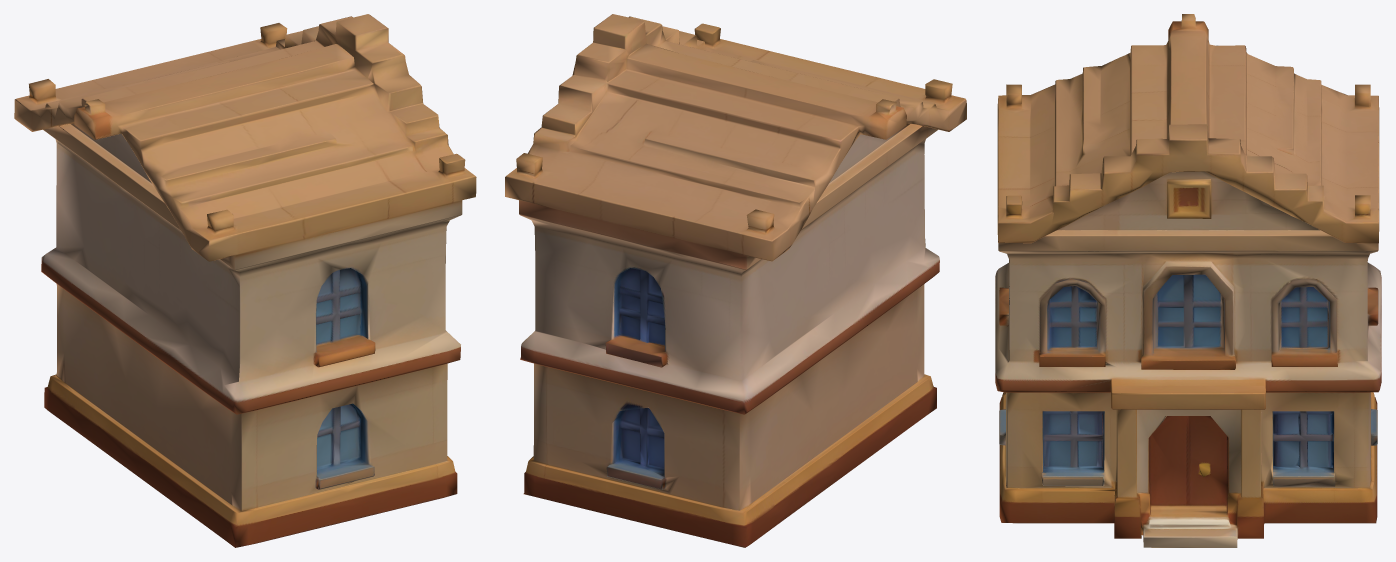
Rendered from SM_Bld_KnowledgeLibrary_01.glb.
3 views of the same model, side by side, from view 1: azimuth 30°, elevation 25°; view 2: azimuth 150°, elevation 25°; view 3: azimuth 270°, elevation 25° (orthographic). The views are drawn at different scales.
Visible parts, largest first — view 1: tripo_node_13891c17-c327-4a1d-9ba7-324a7b3a38b0; view 2: tripo_node_13891c17-c327-4a1d-9ba7-324a7b3a38b0; view 3: tripo_node_13891c17-c327-4a1d-9ba7-324a7b3a38b0.
Boxes of the visible parts, x1,y1,x2,y2 form: tripo_node_13891c17-c327-4a1d-9ba7-324a7b3a38b0: [14, 14, 476, 547]; tripo_node_13891c17-c327-4a1d-9ba7-324a7b3a38b0: [505, 14, 966, 547]; tripo_node_13891c17-c327-4a1d-9ba7-324a7b3a38b0: [995, 14, 1381, 547].
Size of the model in its own units: 0.8526 by 0.9998 by 0.8914.
1 material, 1 textured.
